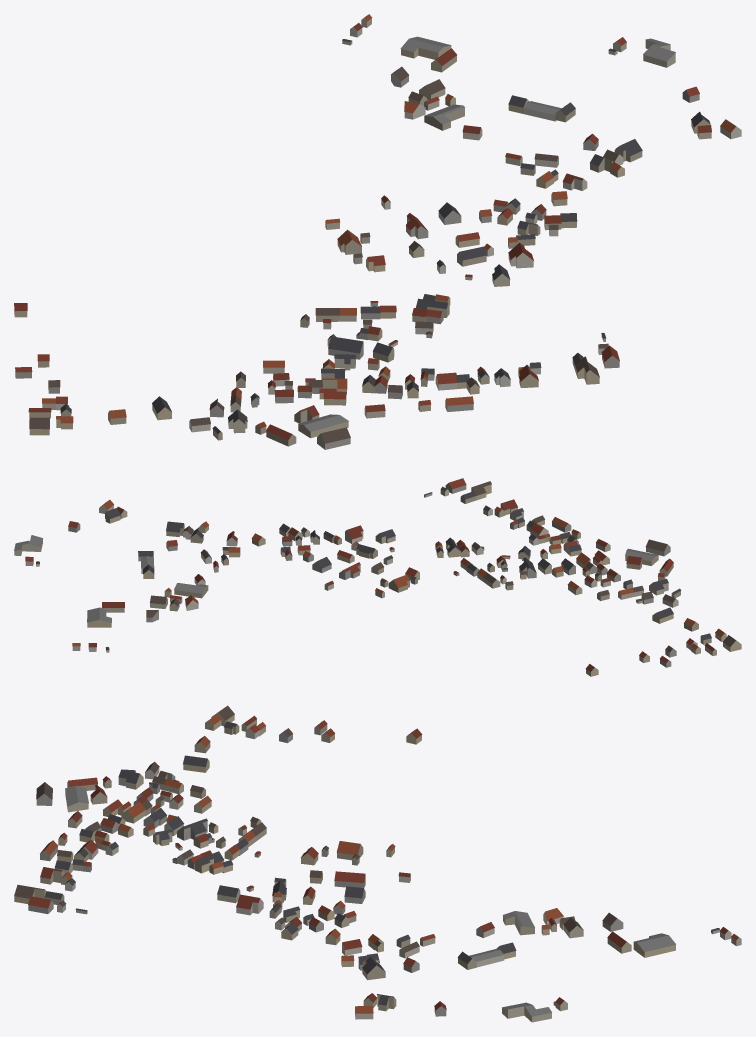
3 views of the same model, one above another, from view 1: azimuth 30°, elevation 25°; view 2: azimuth 150°, elevation 25°; view 3: azimuth 270°, elevation 25° (orthographic). The views are drawn at different scales.
Visible parts, largest first — view 1: buildings; view 2: buildings; view 3: buildings.
Part boxes in pixels (<box>): buildings: <box>14,14,741,449</box>; buildings: <box>14,478,741,676</box>; buildings: <box>14,705,741,1022</box>.
Size of the model in its own units: 777 by 67.25 by 657.
